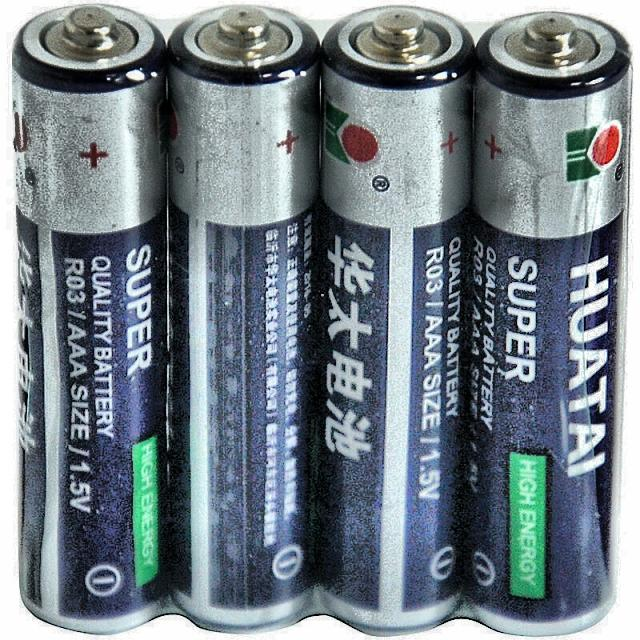Non-Valuable Waste - Batteries: (465, 12, 631, 634), (12, 4, 176, 632), (319, 6, 472, 634), (169, 6, 319, 631)
